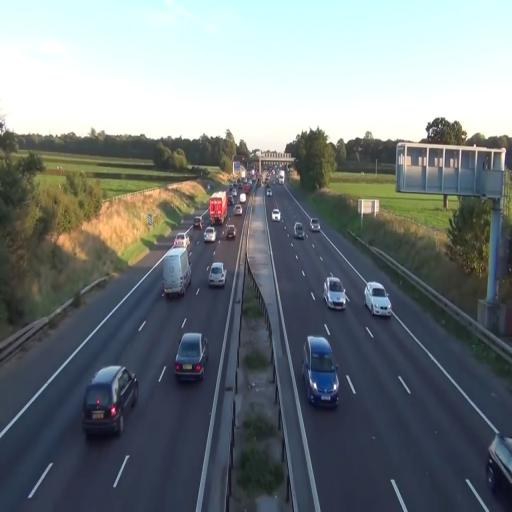vehicle: (82, 364, 140, 438), (82, 366, 138, 438), (302, 334, 339, 408), (302, 336, 338, 406), (174, 331, 208, 382), (486, 434, 511, 502), (161, 246, 191, 301), (486, 432, 512, 494), (175, 333, 208, 380), (163, 248, 191, 297), (364, 280, 392, 317), (365, 282, 391, 317), (324, 276, 348, 310), (324, 277, 346, 310), (209, 191, 227, 225), (209, 192, 227, 225), (208, 261, 226, 288), (209, 263, 226, 287), (204, 226, 218, 244), (174, 232, 189, 248), (223, 223, 236, 241), (294, 222, 305, 239), (294, 220, 304, 238), (204, 227, 216, 242), (272, 206, 281, 222), (310, 218, 320, 232), (226, 225, 236, 239), (310, 218, 320, 231), (193, 217, 203, 229), (278, 170, 285, 185), (272, 210, 281, 221), (239, 193, 247, 203), (234, 205, 242, 215), (244, 183, 249, 194), (228, 195, 233, 205), (241, 169, 245, 179), (267, 187, 271, 196), (232, 189, 237, 196), (232, 180, 237, 187), (248, 179, 252, 187), (266, 180, 270, 188), (238, 183, 243, 189), (229, 184, 233, 191), (243, 178, 247, 184)
